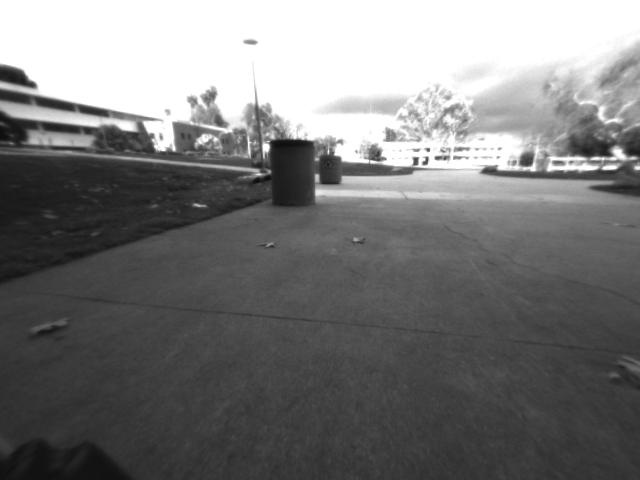trashcan: (263, 132, 318, 209), (318, 147, 347, 197)
